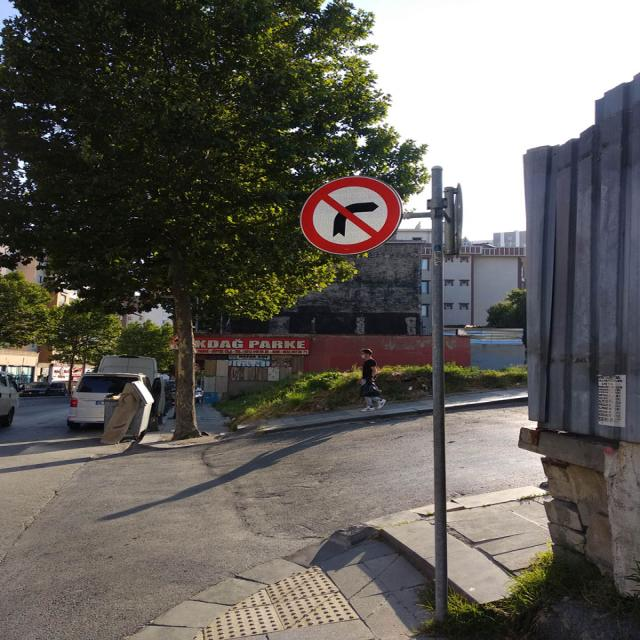sagadonulmez: (301, 175, 404, 255)
